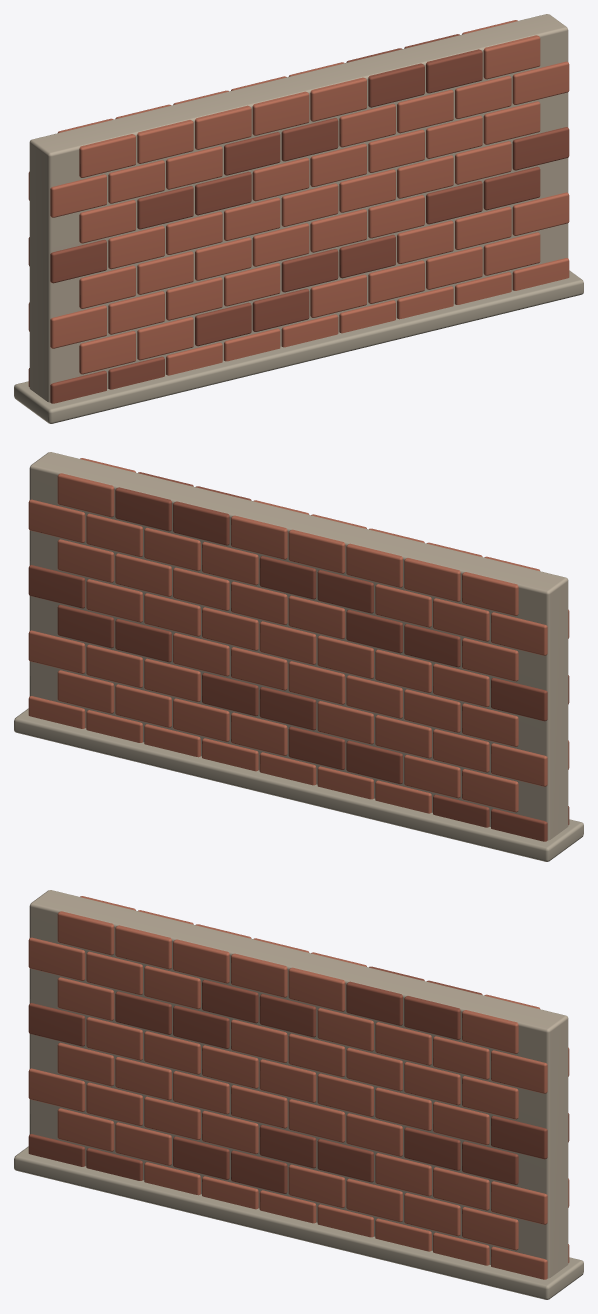
The model's file is brickwall.glb.
3 renders of one model, top to bottom at view 1: azimuth 30°, elevation 25°; view 2: azimuth 150°, elevation 25°; view 3: azimuth 330°, elevation 25°, orthographic.
Parts seen in each view (by area): view 1: Mortar core, Footing, Brick.063, Brick.067, Brick.066, Brick.065, Brick.060, Brick.064, Brick.062, Brick.061, Brick.051, Brick.017 (+58 smaller); view 2: Mortar core, Footing, Brick.063, Brick.067, Brick.066, Brick.065, Brick.060, Brick.064, Brick.062, Brick.061, Brick.051, Brick.017 (+58 smaller); view 3: Mortar core, Footing, Brick.064, Brick.060, Brick.061, Brick.062, Brick.063, Brick.067, Brick.065, Brick.066, Brick.059, Brick.025 (+58 smaller).
Boxes of the visible parts, bbox=[...] form: Mortar core: bbox=[29, 14, 568, 402]; Footing: bbox=[14, 270, 583, 423]; Brick.063: bbox=[231, 76, 309, 135]; Brick.067: bbox=[462, 20, 540, 79]; Brick.066: bbox=[404, 34, 482, 93]; Brick.065: bbox=[346, 48, 424, 107]; Brick.060: bbox=[58, 118, 135, 177]; Brick.064: bbox=[288, 62, 366, 121]; Brick.062: bbox=[173, 90, 251, 149]; Brick.061: bbox=[115, 104, 193, 163]; Brick.051: bbox=[28, 171, 106, 217]; Brick.017: bbox=[28, 302, 106, 348]; Mortar core: bbox=[29, 452, 568, 840]; Footing: bbox=[14, 708, 583, 861]; Brick.063: bbox=[288, 514, 366, 573]; Brick.067: bbox=[57, 458, 135, 517]; Brick.066: bbox=[115, 472, 193, 531]; Brick.065: bbox=[173, 486, 251, 545]; Brick.060: bbox=[462, 556, 539, 615]; Brick.064: bbox=[231, 500, 309, 559]; Brick.062: bbox=[346, 528, 424, 587]; Brick.061: bbox=[404, 542, 482, 601]; Brick.051: bbox=[491, 609, 569, 655]; Brick.017: bbox=[491, 740, 569, 786]; Mortar core: bbox=[29, 890, 568, 1278]; Footing: bbox=[14, 1146, 583, 1299]; Brick.064: bbox=[288, 952, 366, 1011]; Brick.060: bbox=[57, 896, 135, 955]; Brick.061: bbox=[115, 910, 193, 969]; Brick.062: bbox=[173, 924, 251, 983]; Brick.063: bbox=[231, 938, 309, 997]; Brick.067: bbox=[462, 994, 539, 1053]; Brick.065: bbox=[346, 966, 424, 1025]; Brick.066: bbox=[404, 980, 482, 1039]; Brick.059: bbox=[491, 1047, 569, 1093]; Brick.025: bbox=[491, 1178, 569, 1224].
Bounding box in the file's own units: 4.59 × 2.16 × 0.55.
